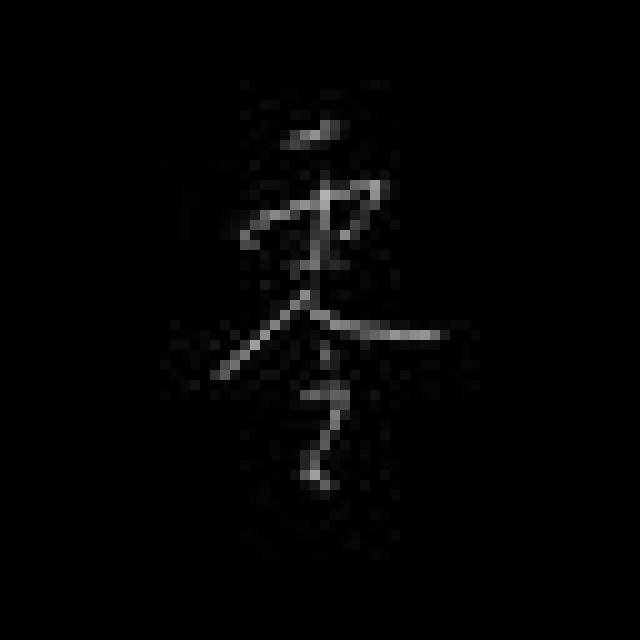0 -zero-: (196, 108, 451, 500)
